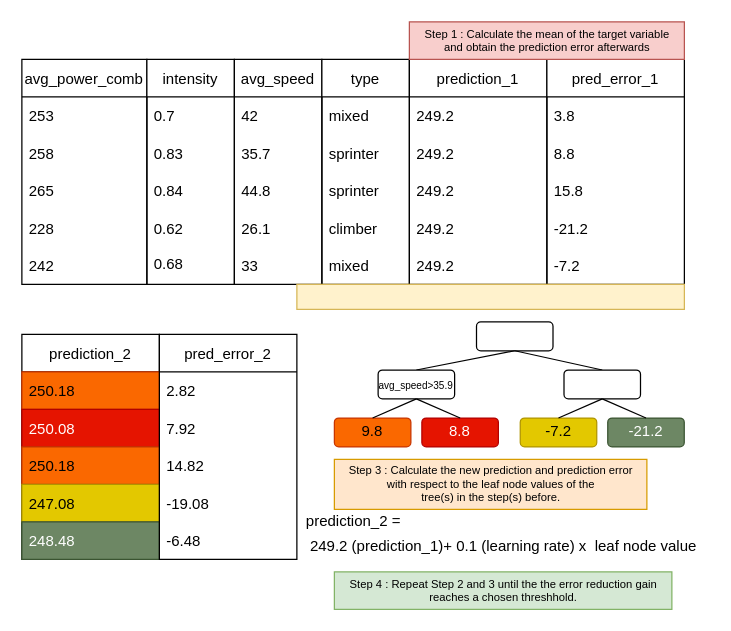
Image size: 731x631. Some labels were removed from this diagram. Each missing label, with the centre of its shape:
intensity>0.69: the point at 514,336
Step 2 : Generate a tree with the prediction error of the initial prediction: the point at 490,296
type=mixed: the point at 601,384
